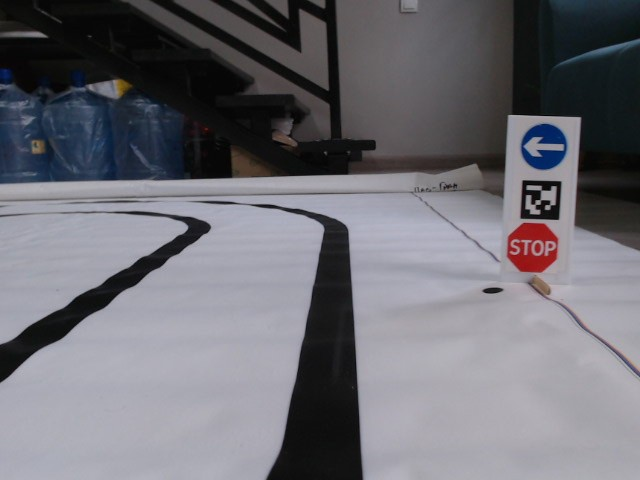Stop: (505, 221, 560, 273)
